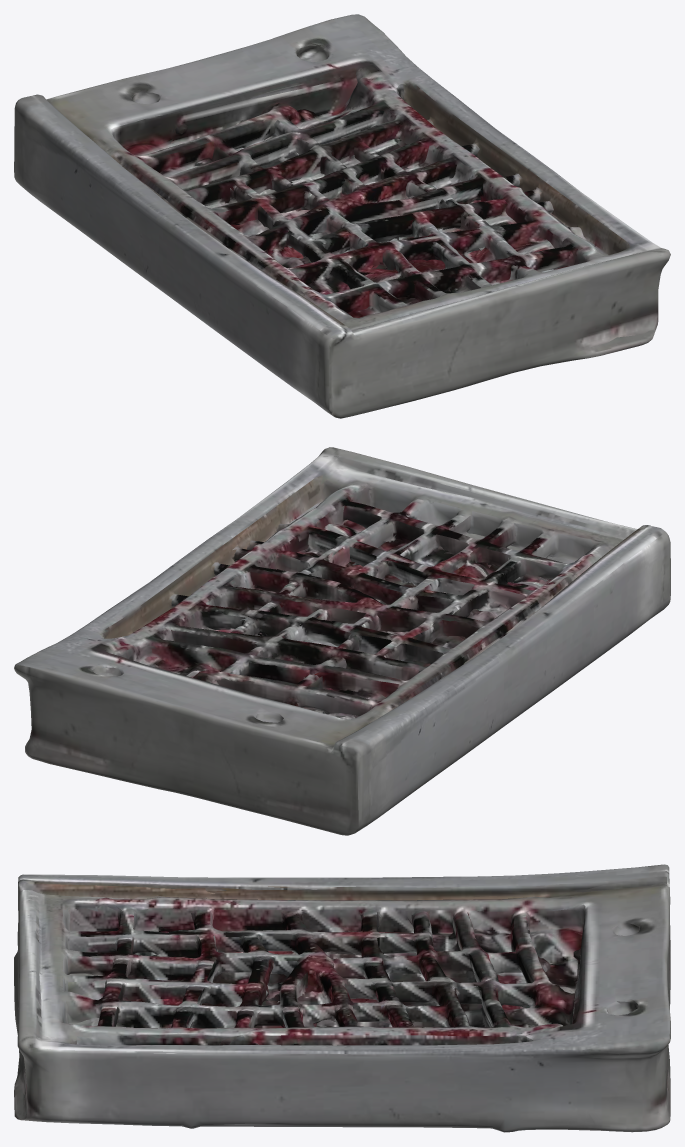
File: drain-channel.glb
3 views of the same model, one above another, from view 1: azimuth 30°, elevation 25°; view 2: azimuth 150°, elevation 25°; view 3: azimuth 270°, elevation 25° (orthographic). The views are drawn at different scales.
Visible parts, largest first — view 1: cowninja-drain-channel; view 2: cowninja-drain-channel; view 3: cowninja-drain-channel.
Boxes of the visible parts, x1,y1,x2,y2 form: cowninja-drain-channel: [14, 14, 670, 418]; cowninja-drain-channel: [14, 447, 670, 835]; cowninja-drain-channel: [14, 864, 670, 1132].
Size of the model in its own units: 1.29 by 0.3327 by 2.
Materials: 1 (1 with a texture image).
